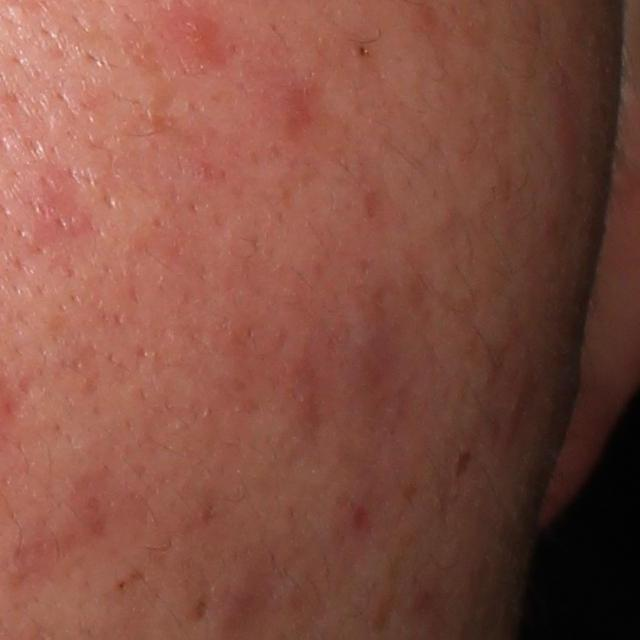comedo: (350, 40, 373, 62)
papule: (175, 10, 214, 52)
